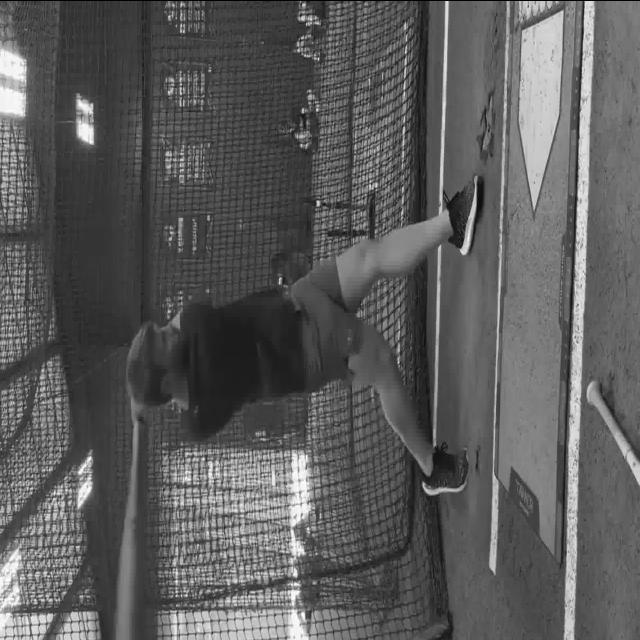base: (514, 6, 568, 210)
bat: (113, 412, 147, 640), (586, 380, 640, 486)
shoe: (443, 174, 482, 256), (421, 444, 468, 496)
